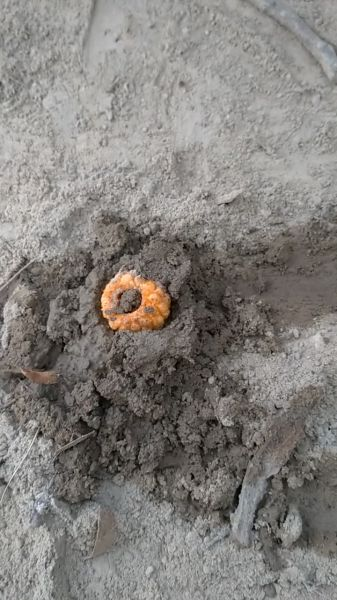eggs: (92, 264, 181, 342)
